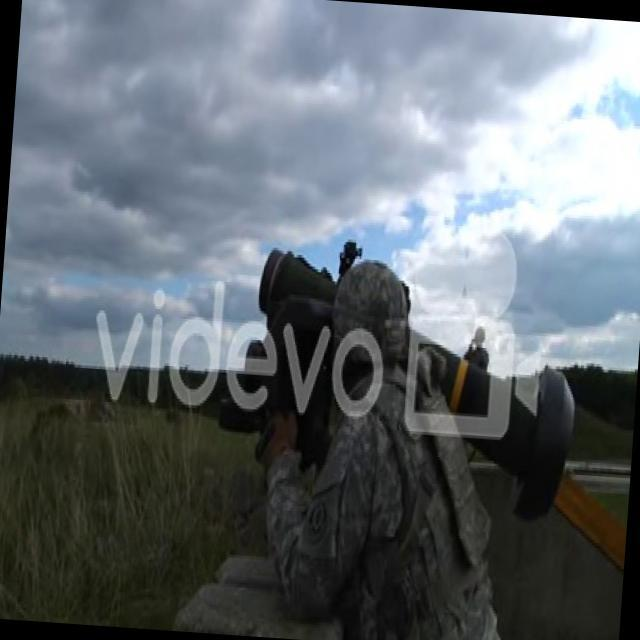rocket: (248, 252, 580, 519)
